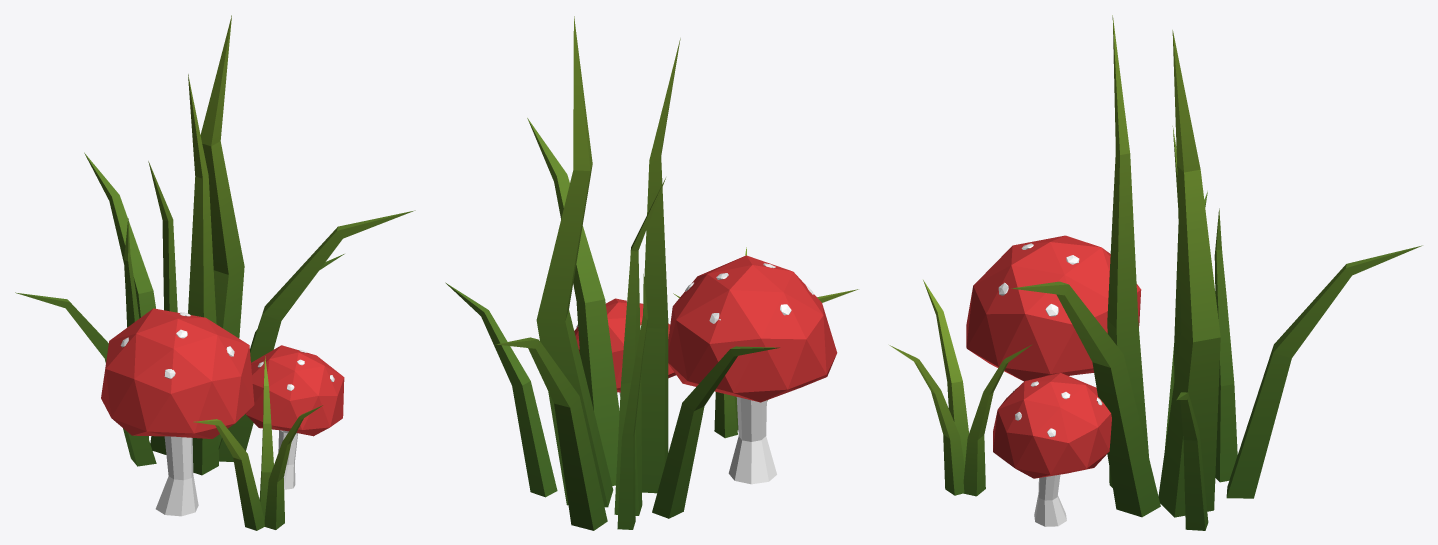
The model's file is Grass_06.fbx.
The picture shows the model from 3 angles, left to right: view 1: azimuth 30°, elevation 25°; view 2: azimuth 150°, elevation 25°; view 3: azimuth 270°, elevation 25°; orthographic projection. The views are drawn at different scales.
Visible parts, largest first — view 1: Grass_06; view 2: Grass_06; view 3: Grass_06.
Part boxes in pixels (box(x1,y1,x2,y2)): Grass_06: box(15, 15, 415, 530); Grass_06: box(445, 16, 858, 530); Grass_06: box(889, 15, 1422, 530).
Size of the model in its own units: 0.4881 by 0.6333 by 0.6217.
